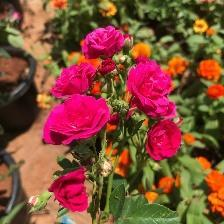rose: (41, 94, 115, 149), (128, 62, 176, 122), (148, 121, 186, 164), (53, 165, 85, 214), (52, 62, 96, 97), (86, 26, 126, 58), (200, 61, 224, 82)
